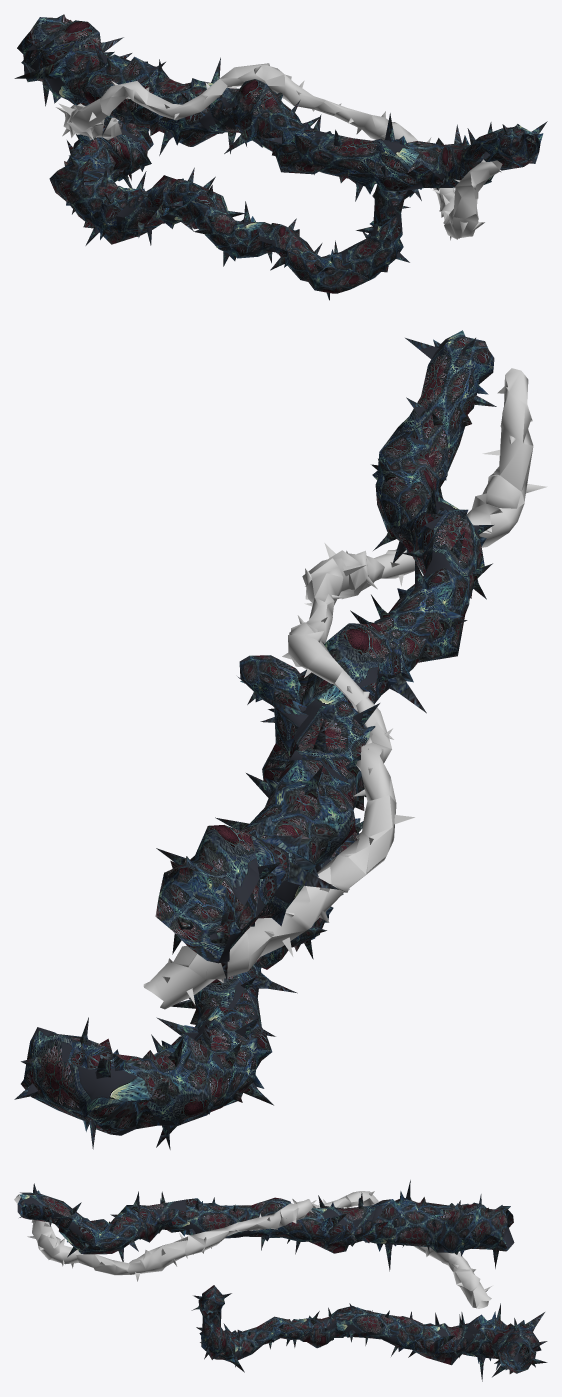
The model's file is 02_09_Makaizyu_04.fbx.
3 views of the same model, one above another, from view 1: azimuth 30°, elevation 25°; view 2: azimuth 150°, elevation 25°; view 3: azimuth 270°, elevation 25° (orthographic). The views are drawn at different scales.
Visible parts, largest first — view 1: LODGroup_3_MainMesh_1_SubMesh_2, LODGroup_3_MainMesh_1_SubMesh_1; view 2: LODGroup_3_MainMesh_1_SubMesh_2, LODGroup_3_MainMesh_1_SubMesh_1; view 3: LODGroup_3_MainMesh_1_SubMesh_2, LODGroup_3_MainMesh_1_SubMesh_1.
Boxes of the visible parts, <box> form: LODGroup_3_MainMesh_1_SubMesh_2: <box>14,14,547,300</box>; LODGroup_3_MainMesh_1_SubMesh_1: <box>56,63,502,240</box>; LODGroup_3_MainMesh_1_SubMesh_2: <box>14,330,496,1149</box>; LODGroup_3_MainMesh_1_SubMesh_1: <box>143,368,547,1009</box>; LODGroup_3_MainMesh_1_SubMesh_2: <box>17,1180,547,1381</box>; LODGroup_3_MainMesh_1_SubMesh_1: <box>14,1191,491,1308</box>.
Bounding box in the file's own units: 1119 × 1374 × 2887.
